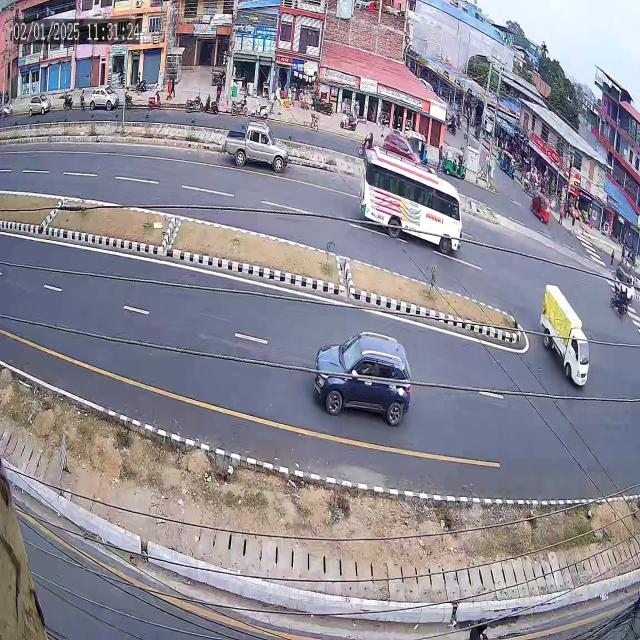bus: (351, 140, 472, 271)
car: (300, 317, 426, 444)
